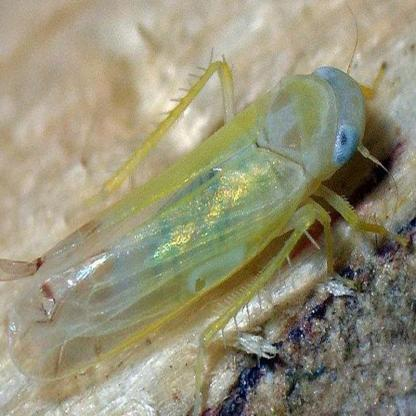green-leafhopper: (25, 69, 367, 376)
